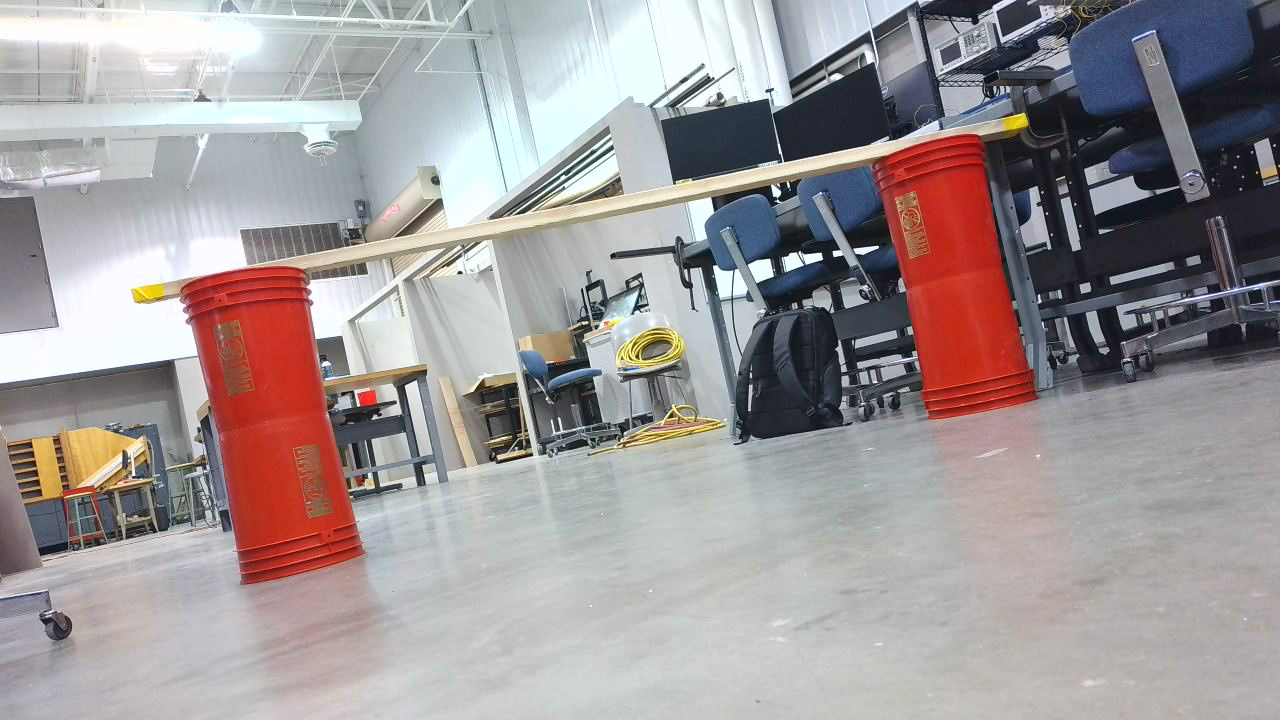red_bucketArch: (180, 121, 1048, 594)
